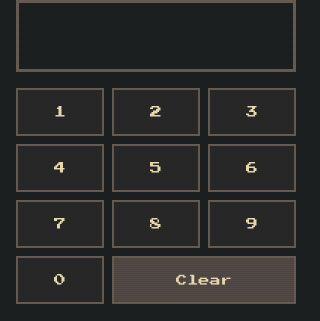
Test: Numpad › displays typed digits
The image size is (320, 321).
Click the button with test id "digit-1" at (60, 112), box [16, 88, 104, 136]
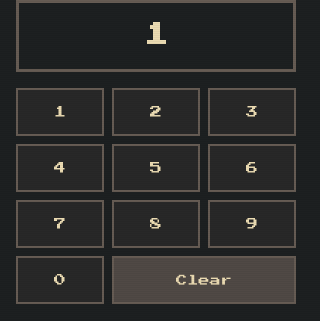
Click the button with test id "digit-2" at (156, 112), box [112, 88, 200, 136]
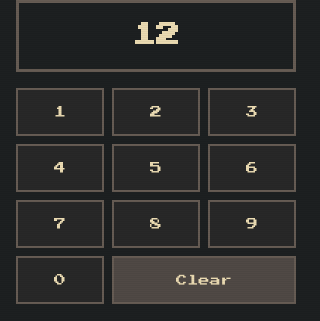
Click the button with test id "digit-3" at (252, 112), box [208, 88, 296, 136]
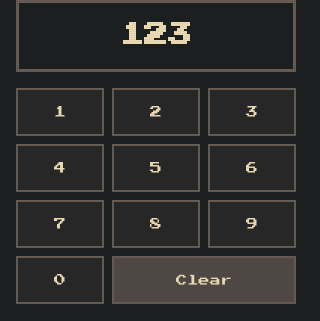
Now the text with test id "display" reads "123", box [120, 23, 192, 47]
